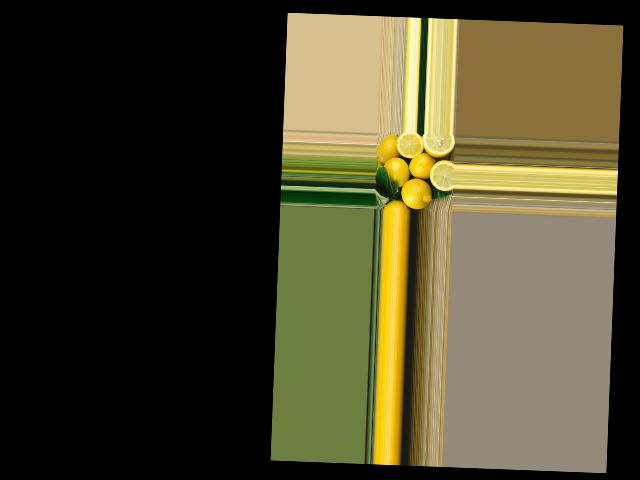lemon: (377, 134, 400, 165)
